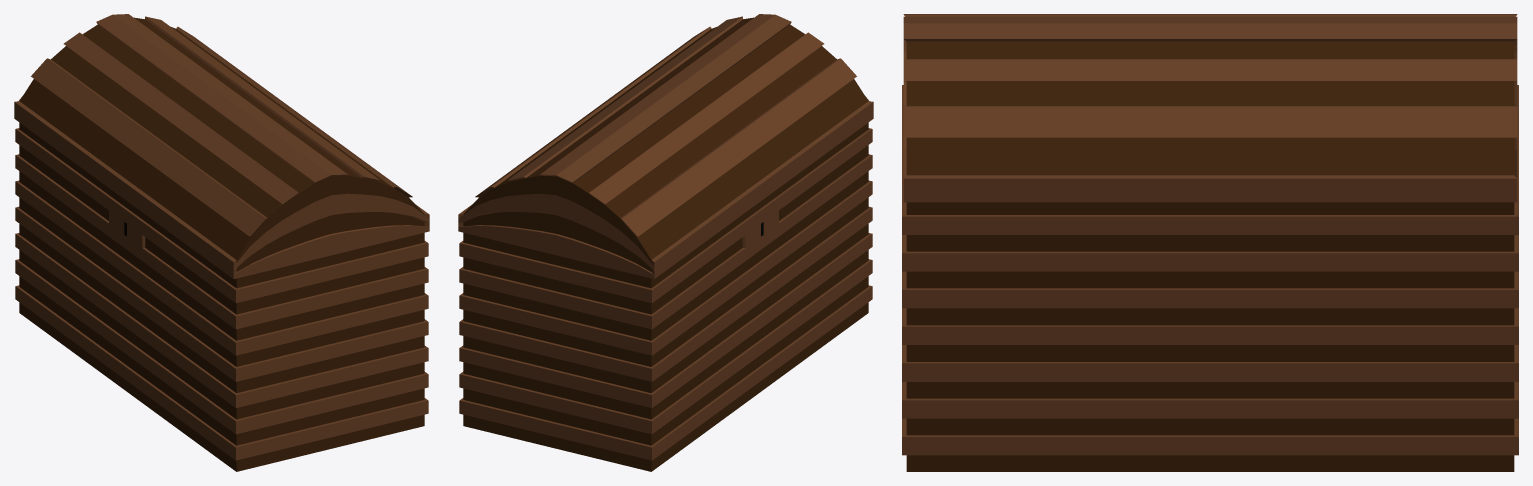
Rendered from Chest 1.fbx.
3 renders of one model, left to right at view 1: azimuth 30°, elevation 25°; view 2: azimuth 150°, elevation 25°; view 3: azimuth 270°, elevation 25°, orthographic. The views are drawn at different scales.
Visible parts, largest first — view 1: Cube, Cube.001; view 2: Cube, Cube.001; view 3: Cube, Cube.001.
Boxes of the visible parts, left/top/right/bottom form: Cube: left=15, top=122, right=428, bottom=471; Cube.001: left=14, top=14, right=429, bottom=278; Cube: left=459, top=122, right=872, bottom=471; Cube.001: left=458, top=14, right=873, bottom=278; Cube: left=902, top=85, right=1518, bottom=471; Cube.001: left=903, top=14, right=1517, bottom=202.
Size of the model in its own units: 208 by 279 by 406.
